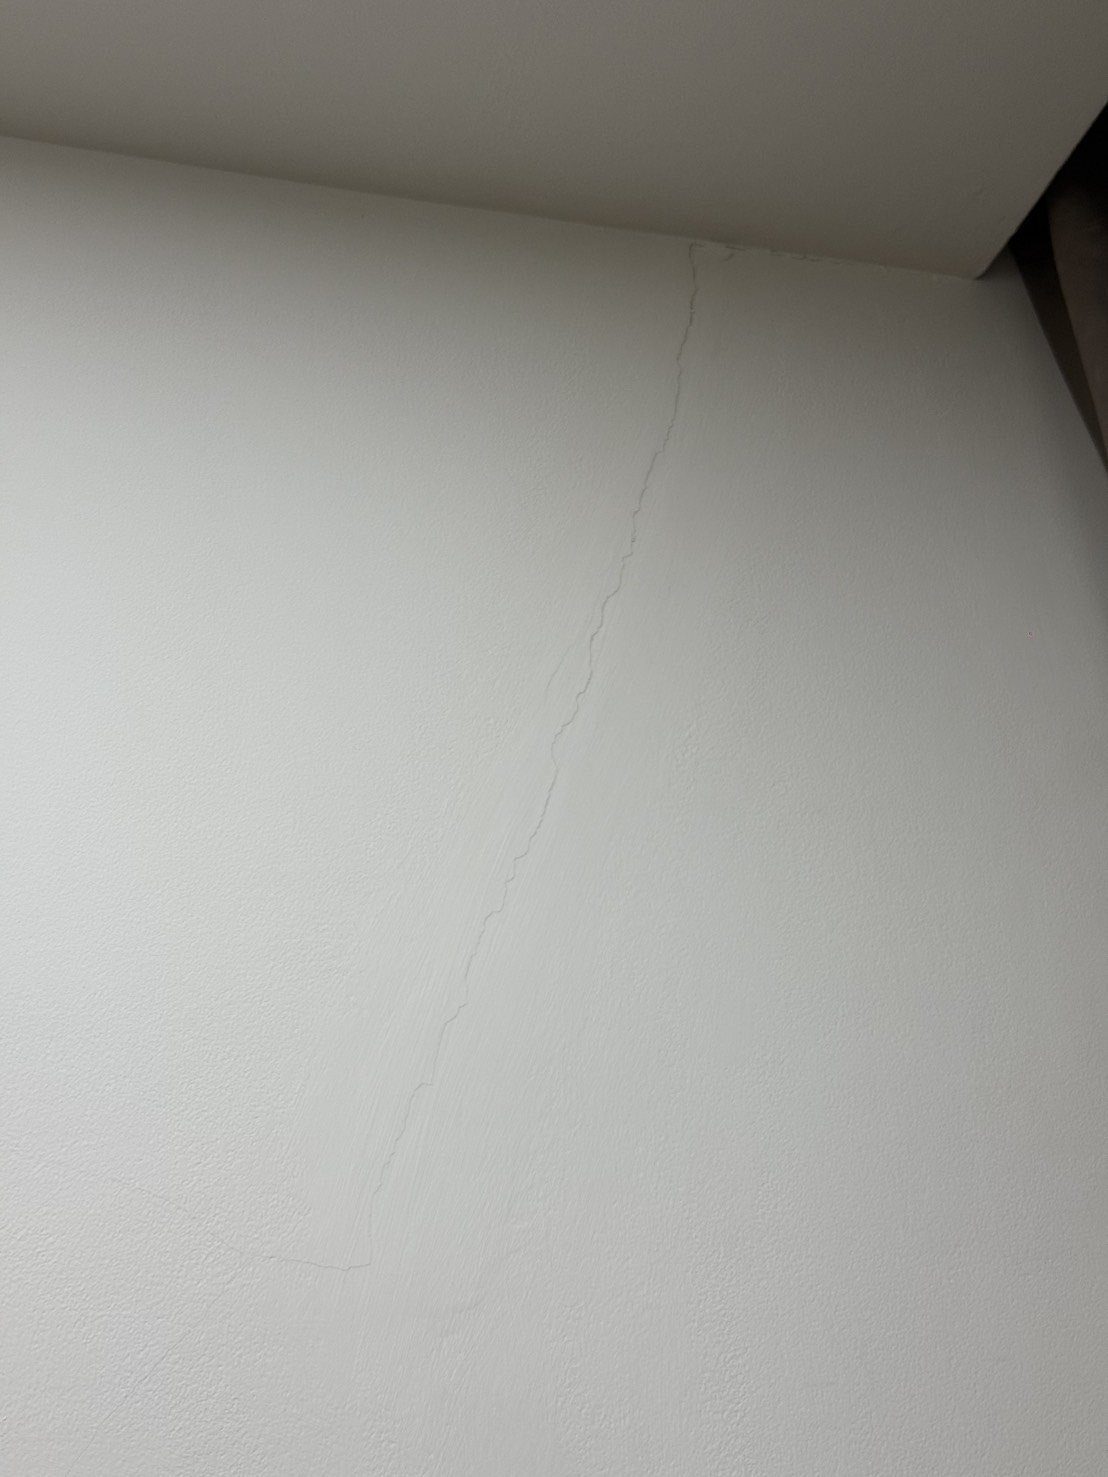Low: (91, 258, 718, 1477)
